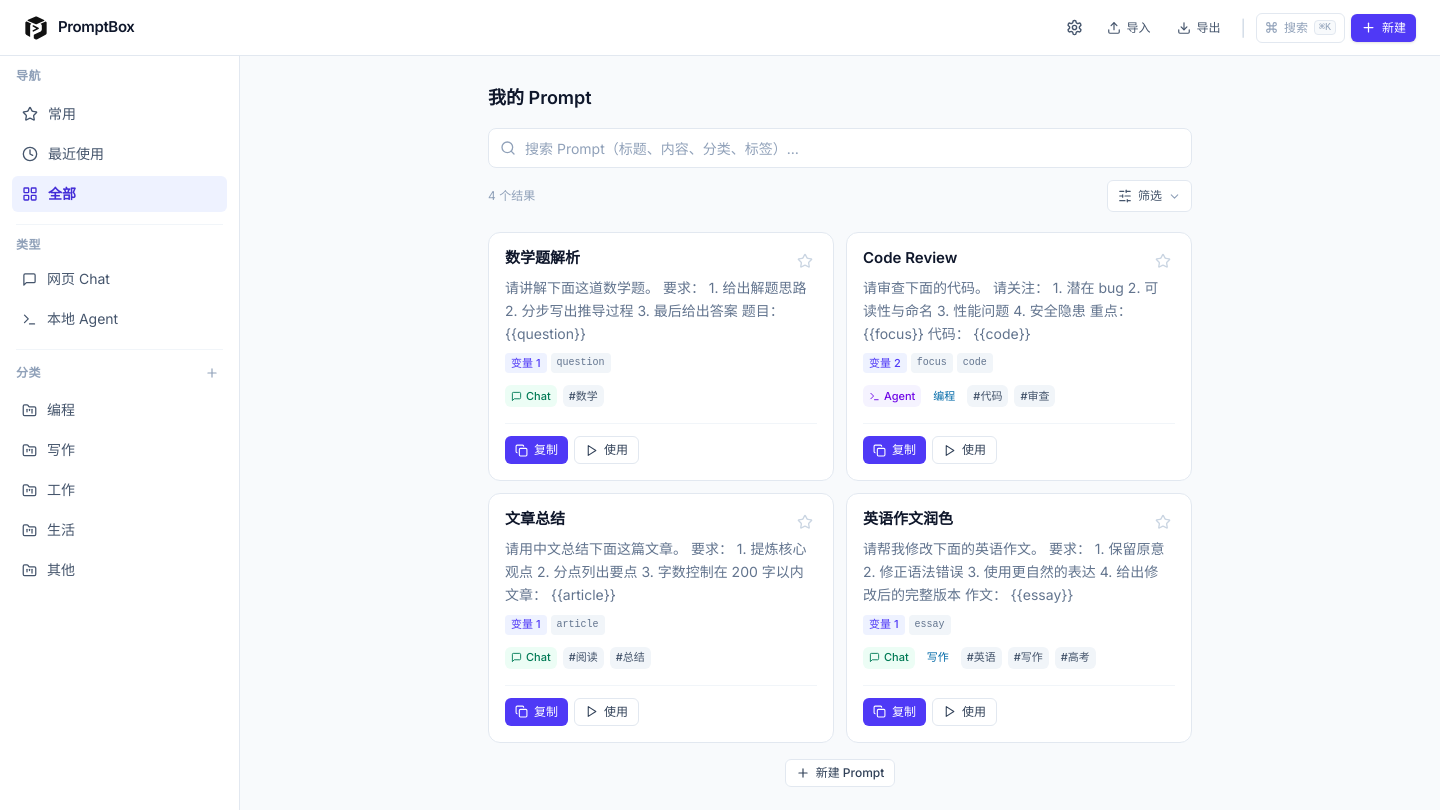
App integration › searches prompts in real time
This screenshot has width=1440, height=810.
In the field labelled "搜索 Prompt": [840, 148] box [488,128,1192,168], type "润色"
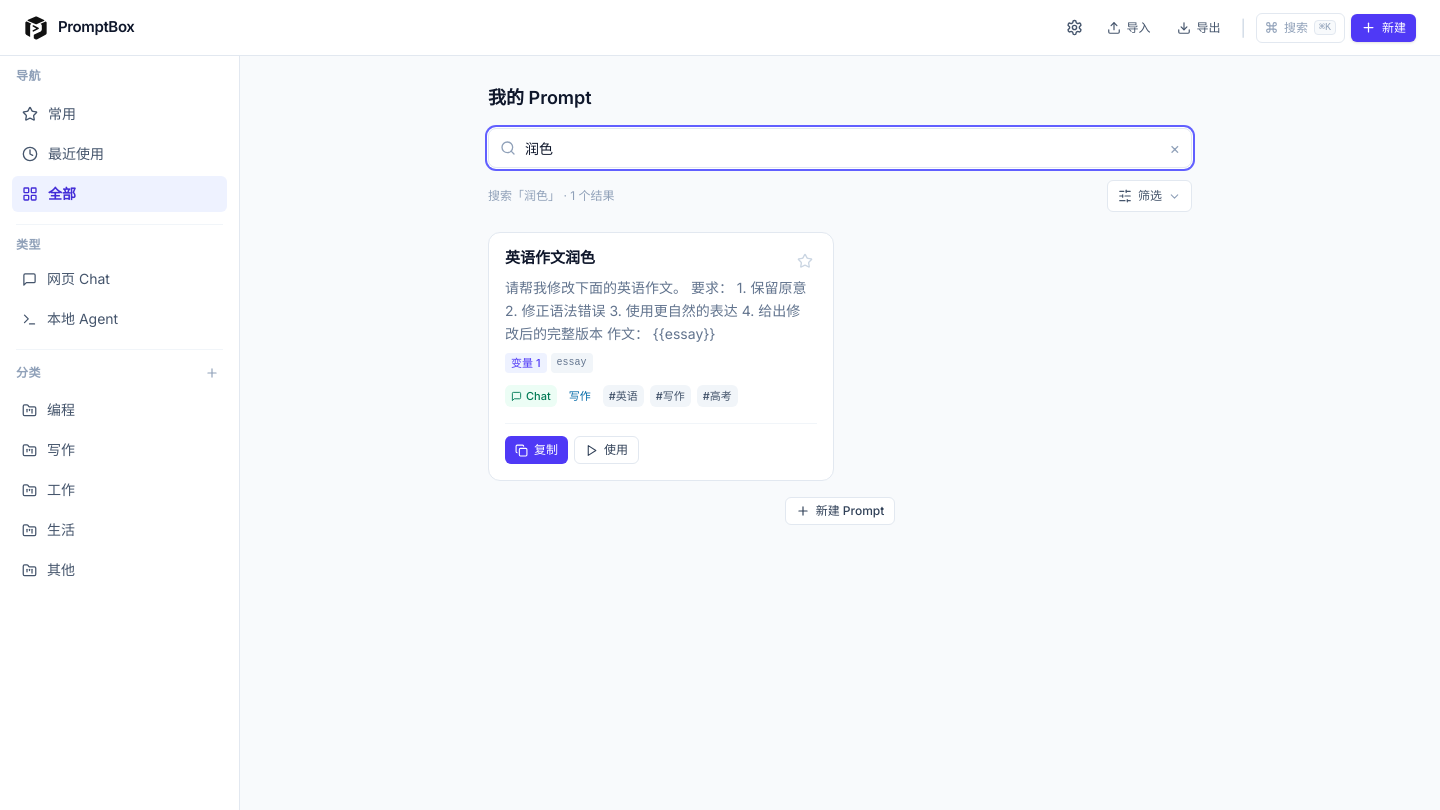
Expected: the button "英语作文润色" is shown, [503,247,597,270]
Expected: the button "Code Review" is gone
